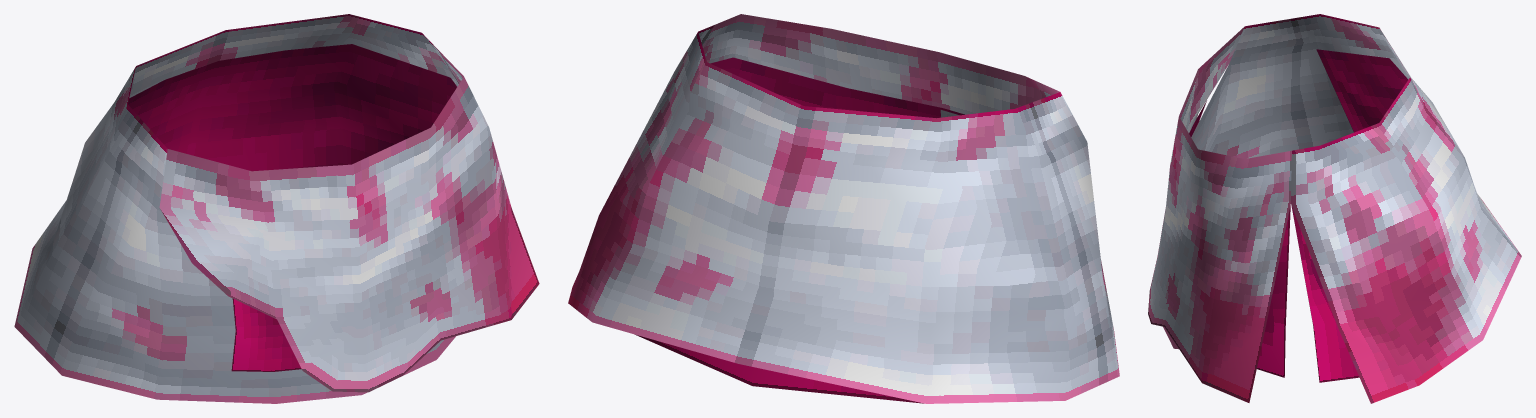
File: f_wst039.glb
3 renders of one model, left to right at view 1: azimuth 30°, elevation 25°; view 2: azimuth 150°, elevation 25°; view 3: azimuth 270°, elevation 25°, orthographic. The views are drawn at different scales.
Bounding box in the file's own units: 48.19 × 26.53 × 36.6.
Materials: 1 (1 with a texture image).
